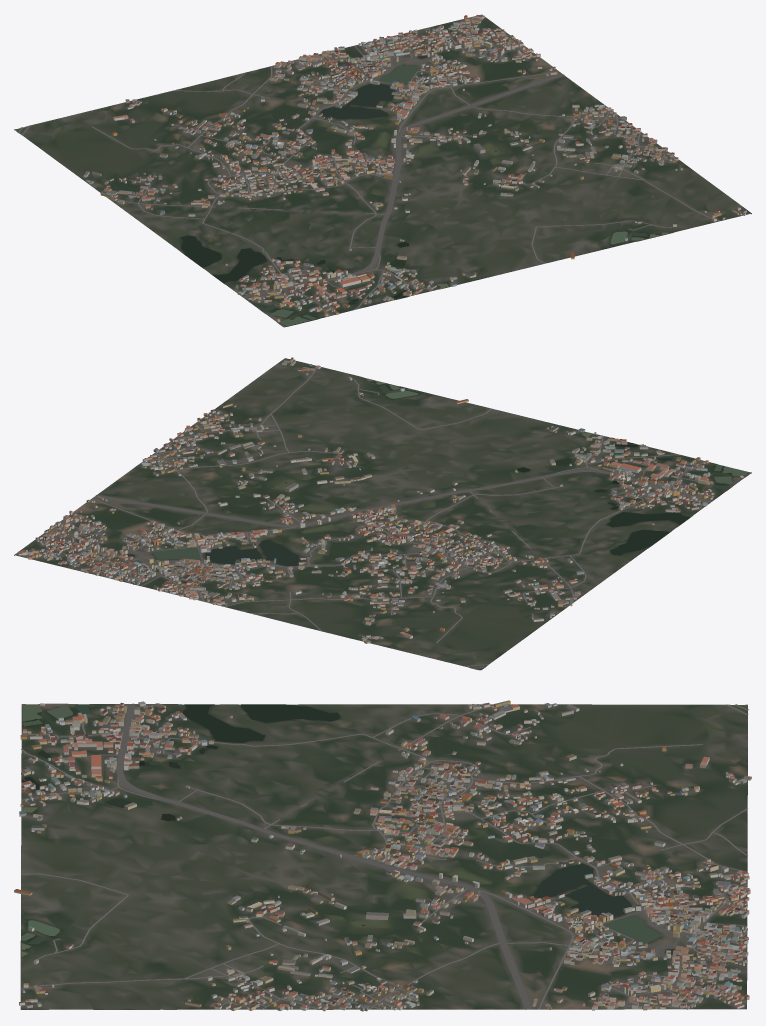
3 renders of one model, top to bottom at view 1: azimuth 30°, elevation 25°; view 2: azimuth 150°, elevation 25°; view 3: azimuth 270°, elevation 25°, orthographic. The views are drawn at different scales.
Parts seen in each view (by area): view 1: ground, buildings, roads, water; view 2: ground, buildings, roads, water; view 3: ground, buildings, roads, water.
Boxes of the visible parts, <box> form: ground: <box>14,14,751,327</box>; buildings: <box>83,15,746,321</box>; roads: <box>21,17,719,315</box>; water: <box>18,55,670,326</box>; ground: <box>14,358,751,670</box>; buildings: <box>18,357,743,643</box>; roads: <box>26,365,711,666</box>; water: <box>126,378,747,668</box>; ground: <box>20,703,747,1009</box>; buildings: <box>14,700,751,1011</box>; roads: <box>20,703,748,1009</box>; water: <box>21,704,748,956</box>.
Bounding box in the file's own units: 1412 × 21.13 × 1424.
